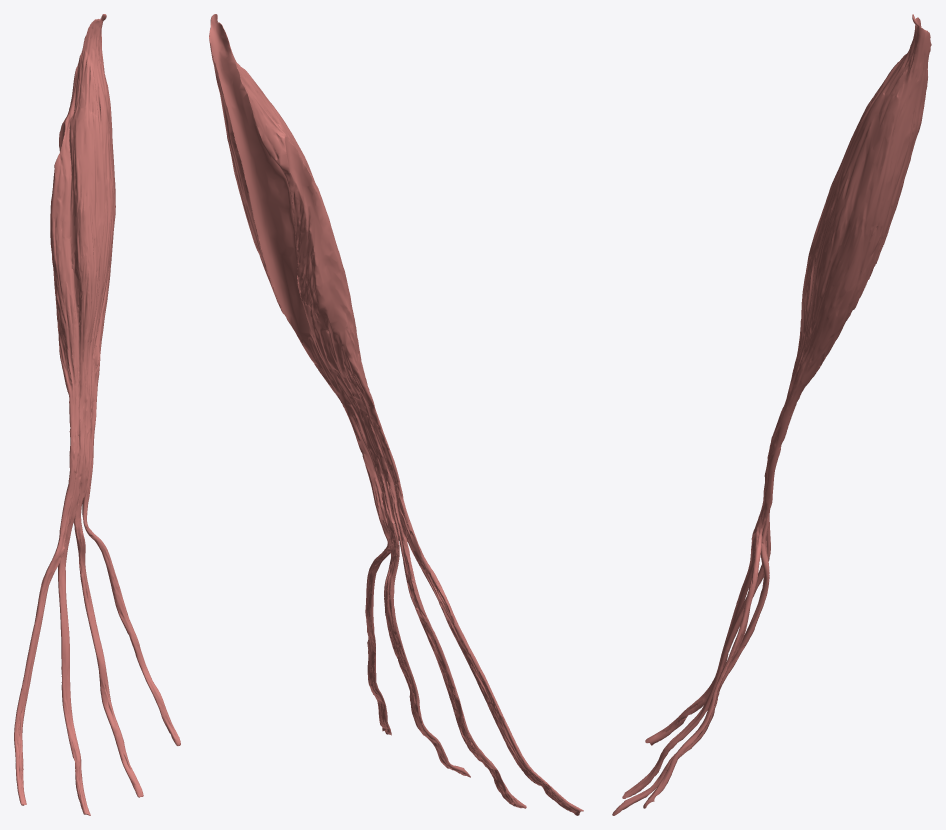
File: fma38479.glb
3 renders of one model, left to right at view 1: azimuth 30°, elevation 25°; view 2: azimuth 150°, elevation 25°; view 3: azimuth 270°, elevation 25°, orthographic. The views are drawn at different scales.
Parts seen in each view (by area): view 1: FMA38479; view 2: FMA38479; view 3: FMA38479.
Boxes of the visible parts, bbox=[...] form: FMA38479: bbox=[14, 14, 180, 815]; FMA38479: bbox=[209, 14, 583, 815]; FMA38479: bbox=[612, 14, 931, 815].
Size of the model in its own units: 0.1031 by 0.3534 by 0.1185.
